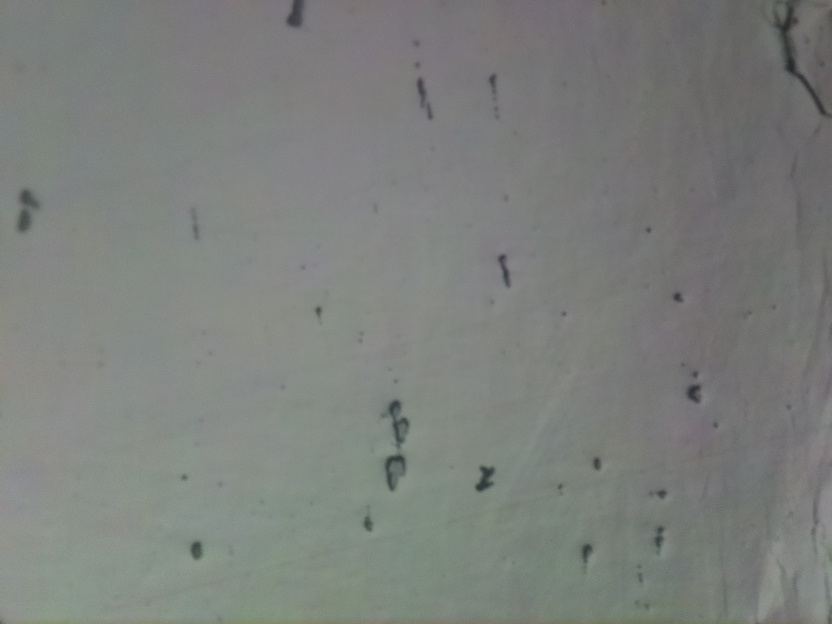crack: (769, 0, 832, 118)
